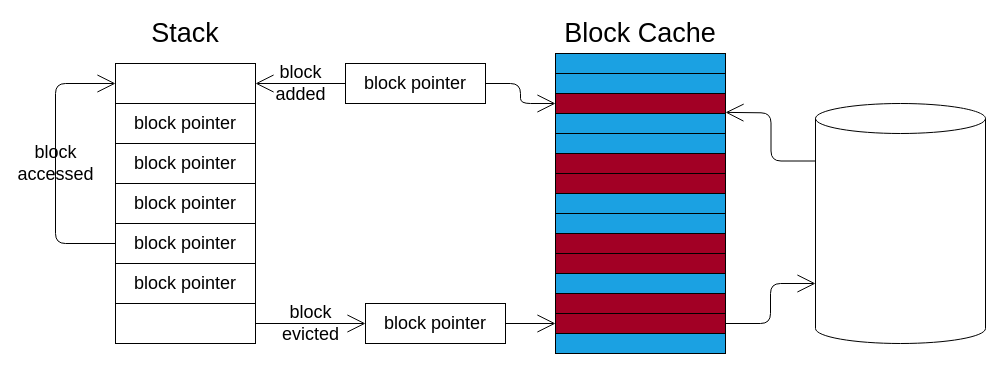
This 1003x371 diagram has some shape labels left out. Here are the shapes that lost their labels. From the top down, the centre of each, then its label:
At point 185,83: "most recently used".
At point 900,223: "Secondary Storage".
At point 185,323: "least recently used".
